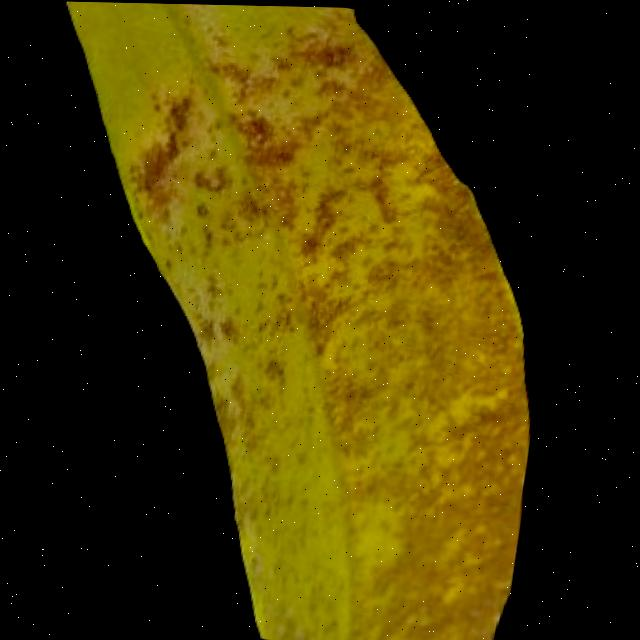mite: (344, 7, 493, 83), (348, 7, 493, 55), (351, 7, 483, 35), (181, 3, 323, 28), (128, 132, 180, 200), (443, 23, 472, 33)
